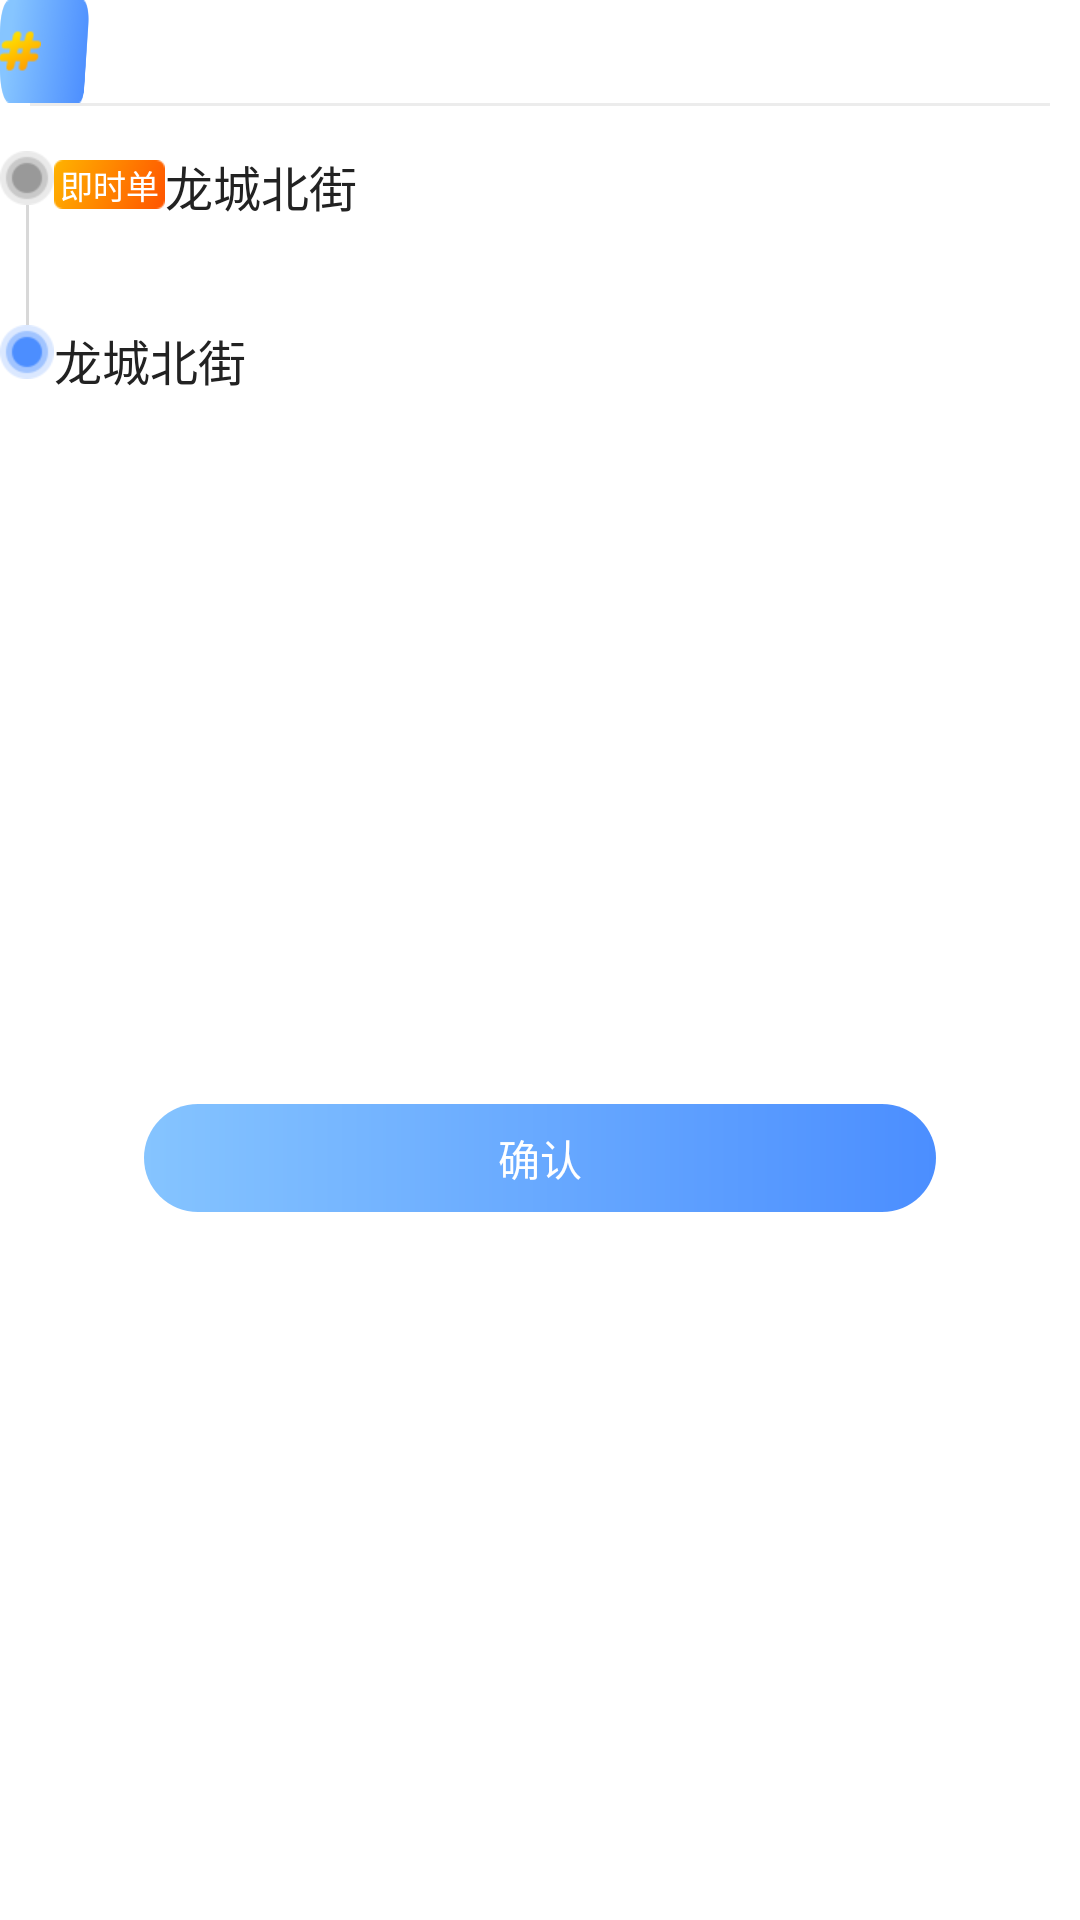

Where to tap for icons on this 1080w x 1920h app screen, as (x=x, y=y):
popup remind checked: (x=27, y=352)
popup remind unchecked: (x=27, y=178)
